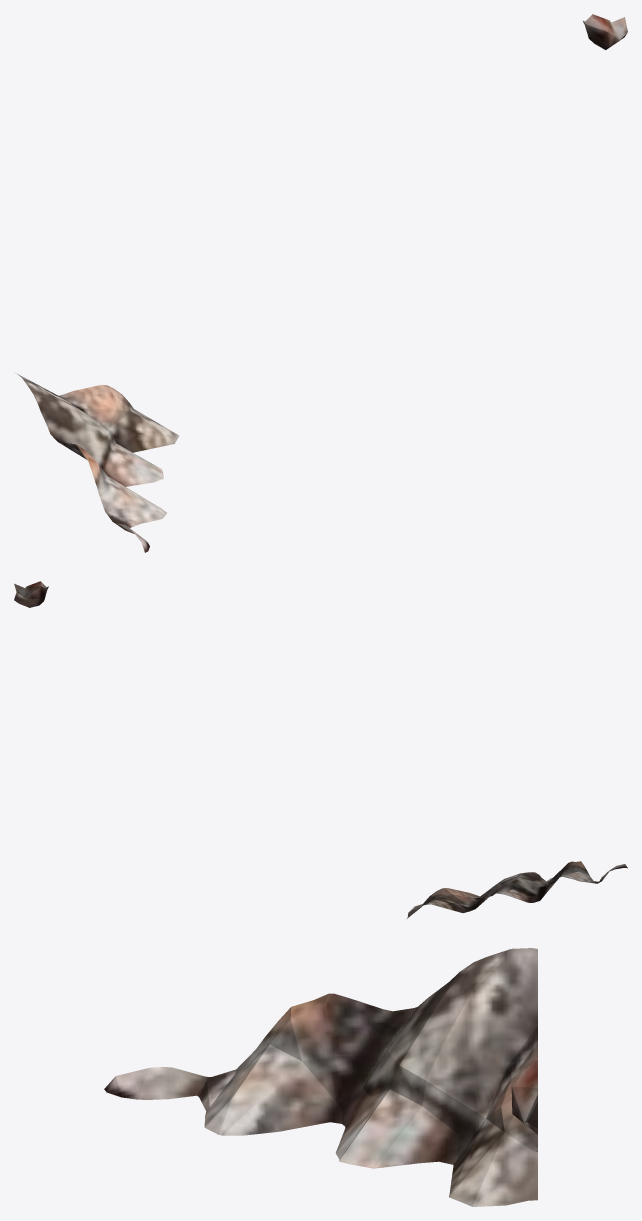
The picture shows the model from 3 angles, top to bottom: view 1: azimuth 30°, elevation 25°; view 2: azimuth 150°, elevation 25°; view 3: azimuth 270°, elevation 25°; orthographic projection. The views are drawn at different scales.
Size of the model in its own units: 1.67 by 0.7904 by 0.6222.
1 material, 1 textured.
